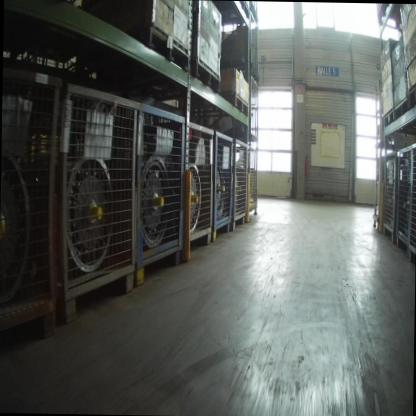pallet: (127, 23, 194, 80), (185, 56, 225, 104), (383, 106, 416, 138), (217, 89, 252, 118), (375, 4, 403, 32), (395, 97, 409, 128), (406, 80, 416, 112)
stillage: (56, 77, 142, 327), (0, 57, 68, 346), (133, 98, 186, 290), (184, 114, 216, 260), (211, 126, 234, 246), (220, 22, 260, 79), (230, 132, 250, 236), (380, 145, 399, 248), (396, 140, 411, 262), (406, 136, 416, 270), (247, 144, 260, 223)
